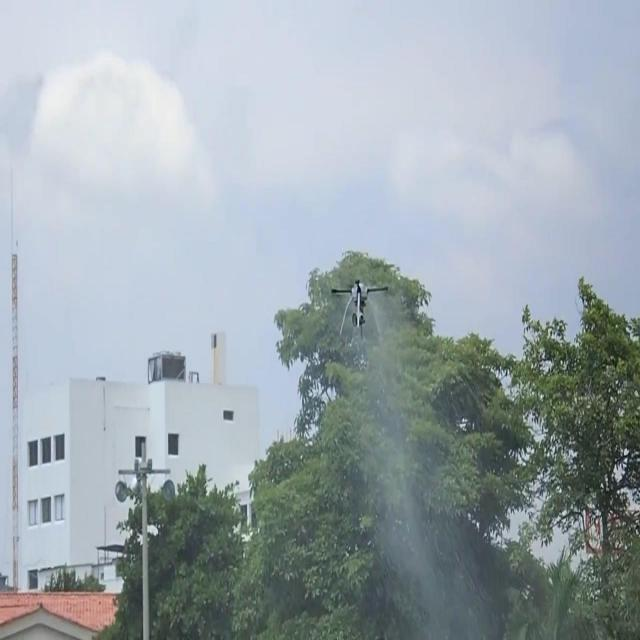UAV: (331, 279, 388, 341)
